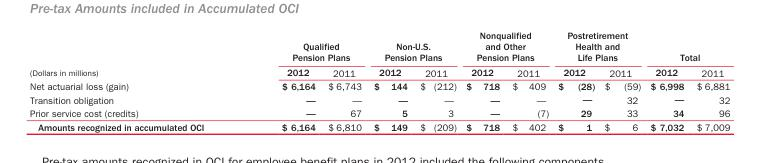table: (29, 28, 729, 132)
table column: (29, 28, 242, 132), (242, 28, 320, 132), (320, 28, 367, 132), (413, 28, 460, 132), (505, 28, 552, 132), (367, 28, 413, 132), (552, 28, 598, 132), (598, 28, 644, 132), (460, 28, 505, 132), (644, 28, 689, 132), (689, 28, 729, 132)
table column header: (29, 28, 729, 78)
table row: (29, 28, 729, 64), (29, 64, 729, 78), (29, 78, 729, 92), (29, 92, 729, 106), (29, 106, 729, 119), (29, 119, 729, 132)
table spanning cell: (29, 28, 242, 78), (242, 28, 367, 64), (367, 28, 460, 64), (460, 28, 552, 64), (552, 28, 644, 64), (644, 28, 729, 64)
